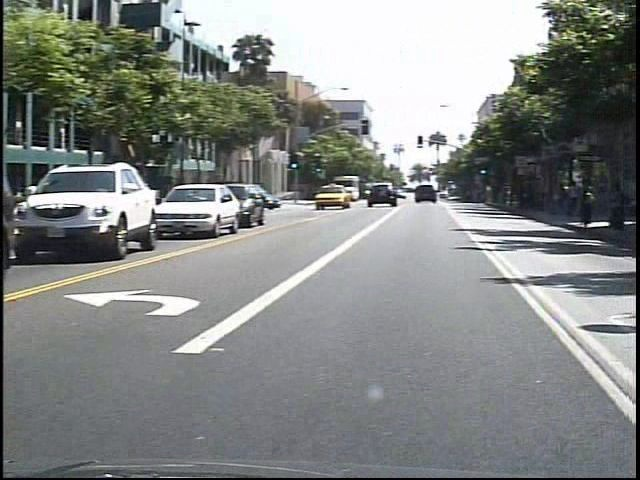person: (577, 177, 592, 216)
